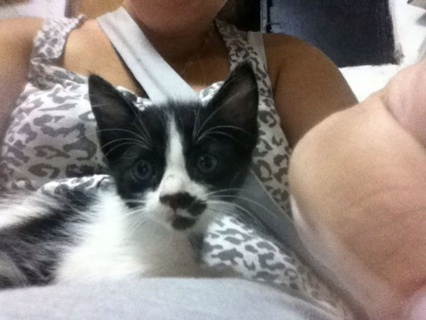Cat: (20, 60, 271, 281)
